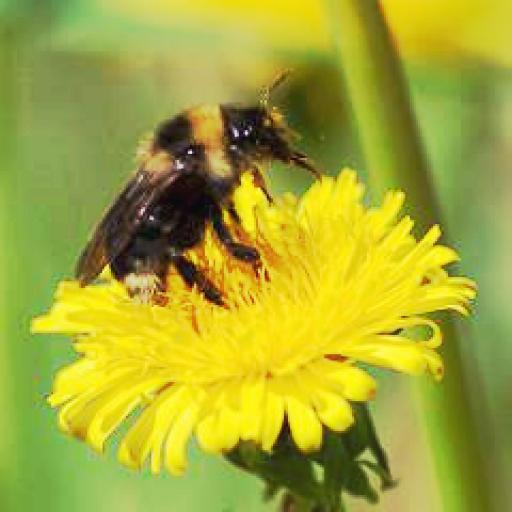dandelion: (53, 175, 465, 456)
